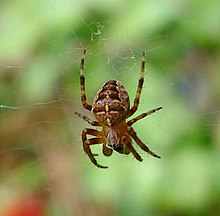spider: (62, 41, 171, 173)
